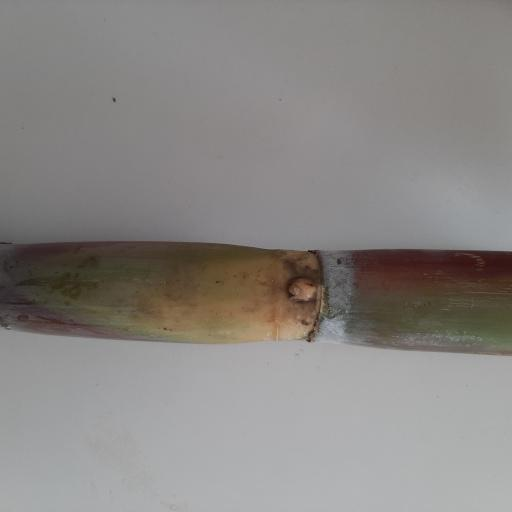Bud: (287, 277, 320, 302)
